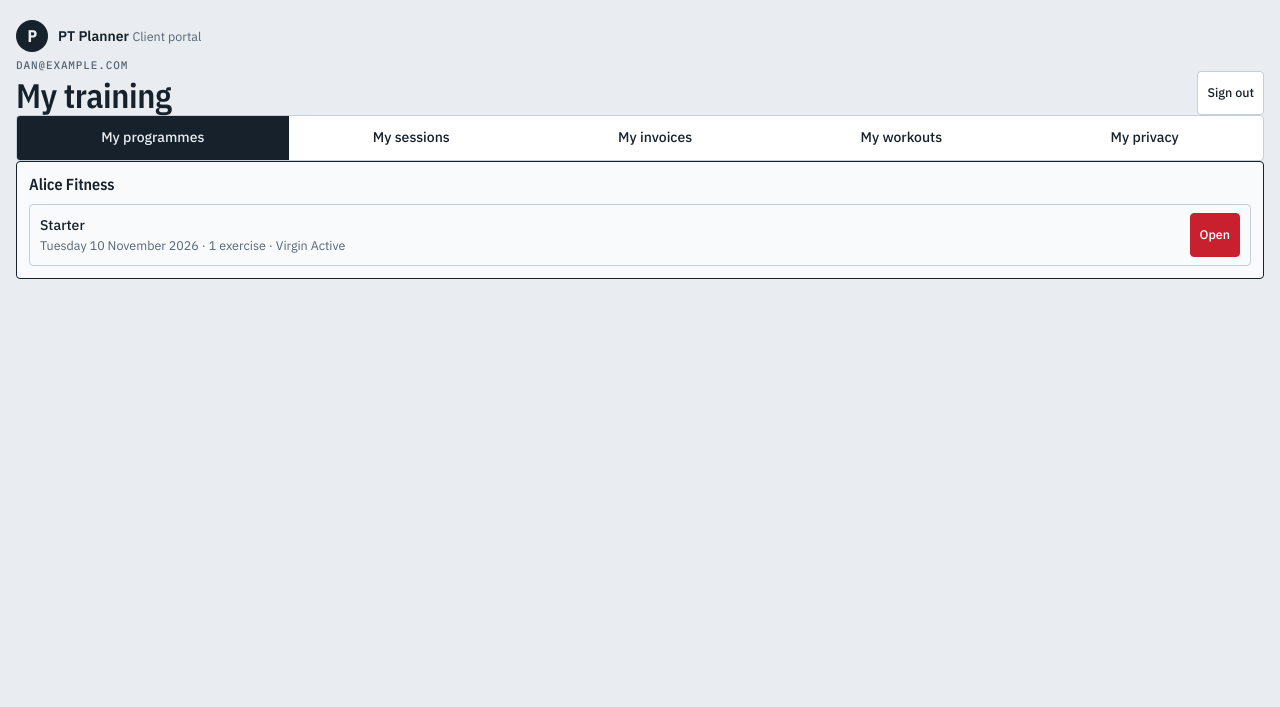
Scenario: a client runs their own programme › timing a workout to the end saves it for the client, once, with the time and steps
Click the button with aria-label "Open Starter" at (1215,235), box x1=1190 y1=213 x2=1240 y2=257
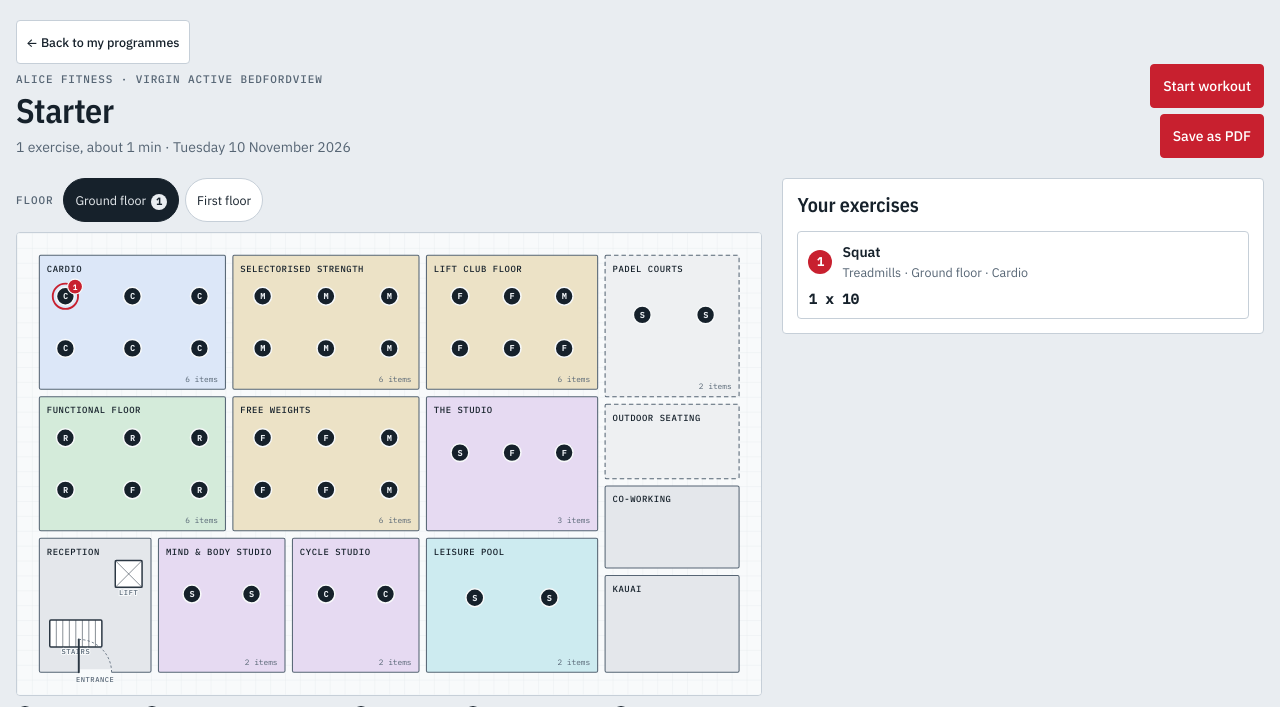
Click the button "Start workout" at (1207,86), box x1=1150 y1=64 x2=1264 y2=108
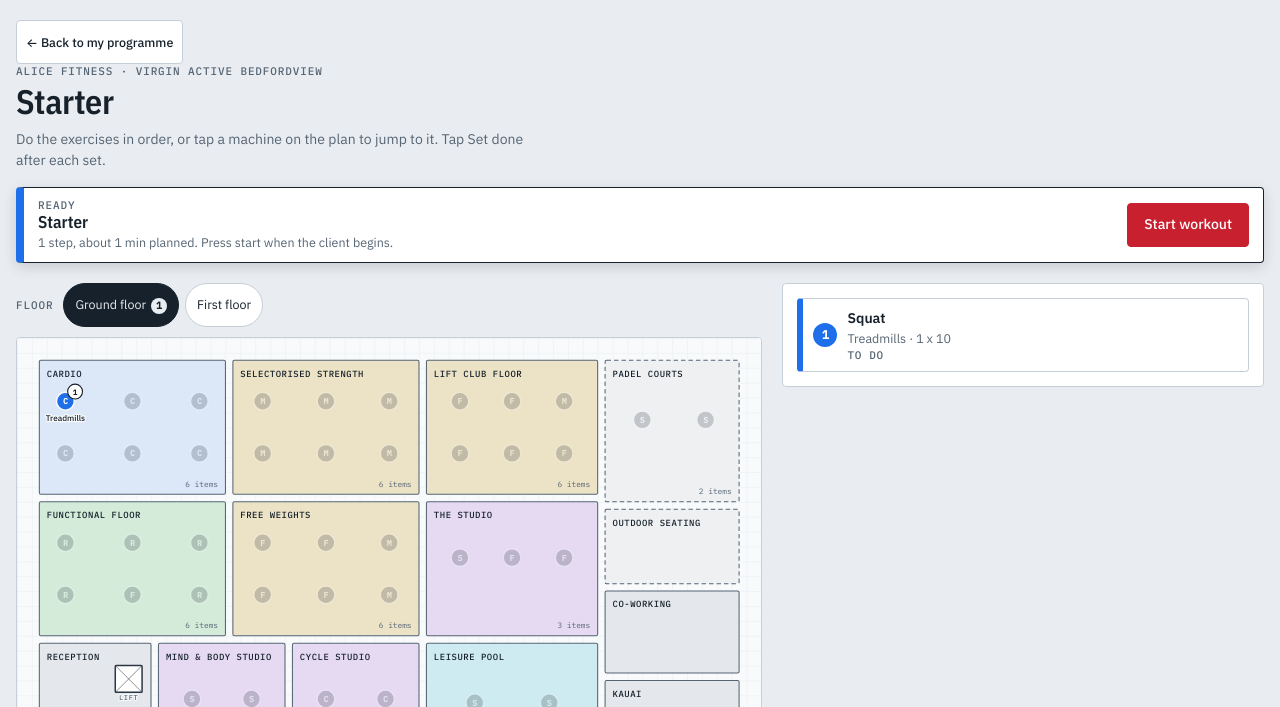
Click the button "Start workout" at (1188,225), box x1=1127 y1=203 x2=1249 y2=247
Wait 65000 ms
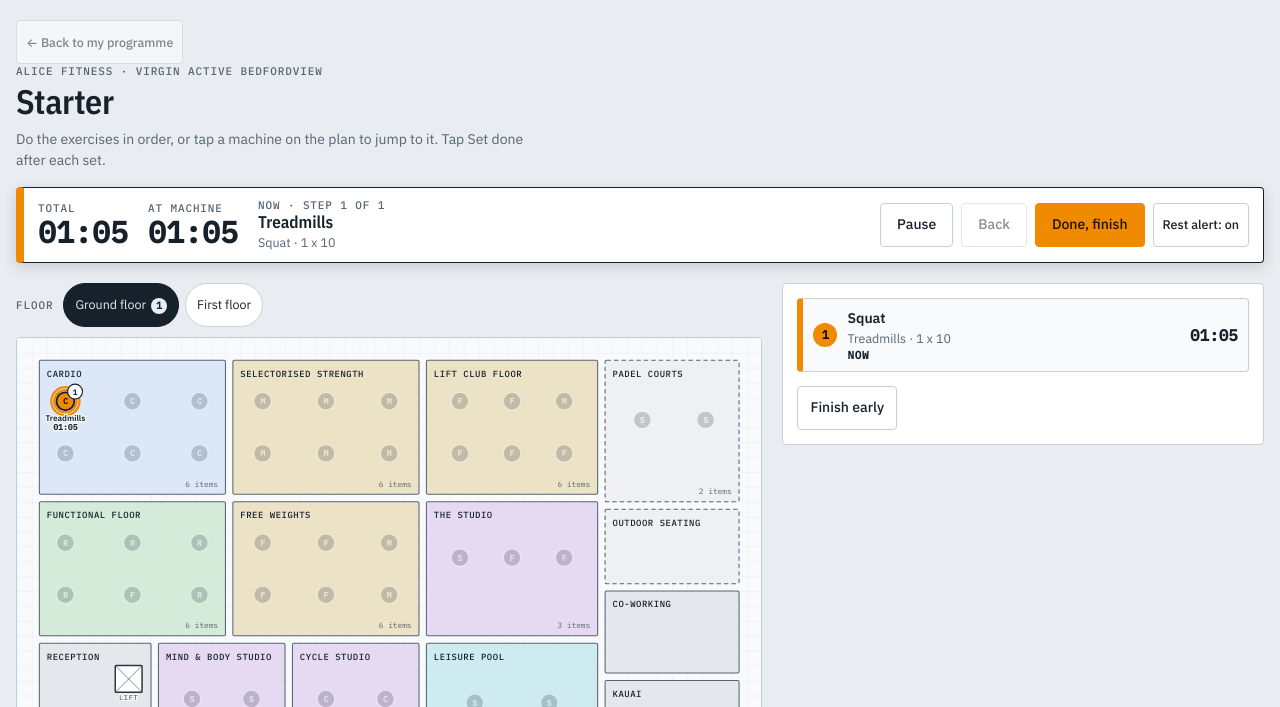
Now the text "01:05" below "Total" is shown, box x1=38 y1=212 x2=128 y2=251
Click the button "Done, finish" at (1090,225), box x1=1035 y1=203 x2=1145 y2=247
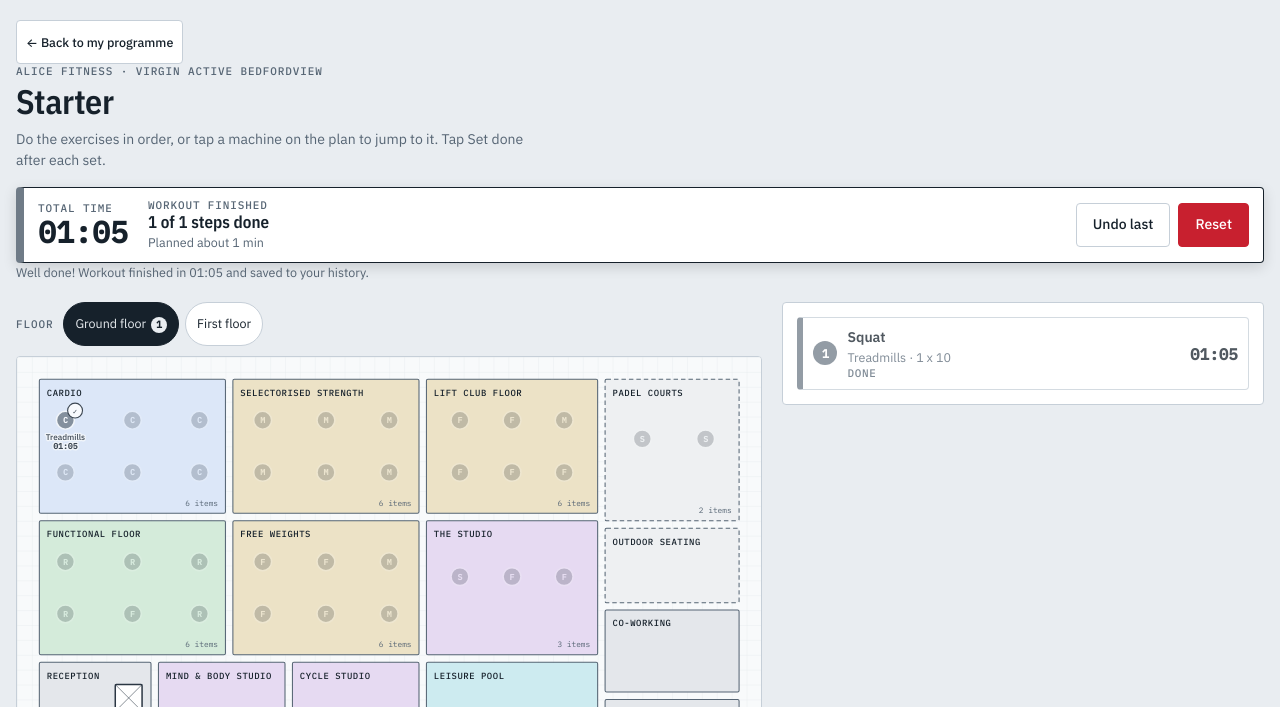
Now the heading "Starter" is shown, box x1=16 y1=79 x2=114 y2=123
Now the text "Well done! Workout finished in 01:05 and saved to your history." is shown, box x1=16 y1=264 x2=369 y2=280
